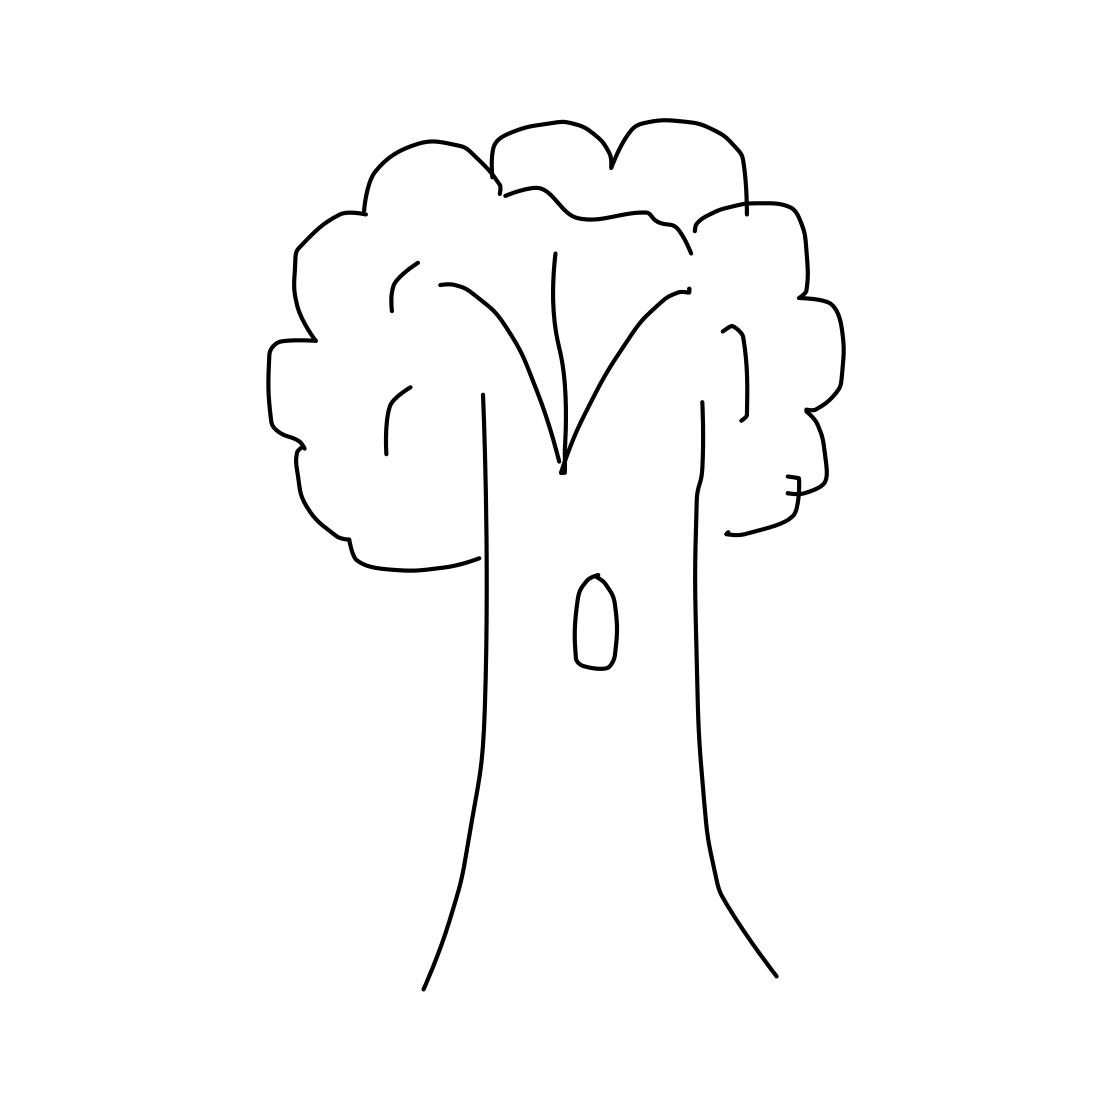Tree: (242, 91, 878, 1000)
